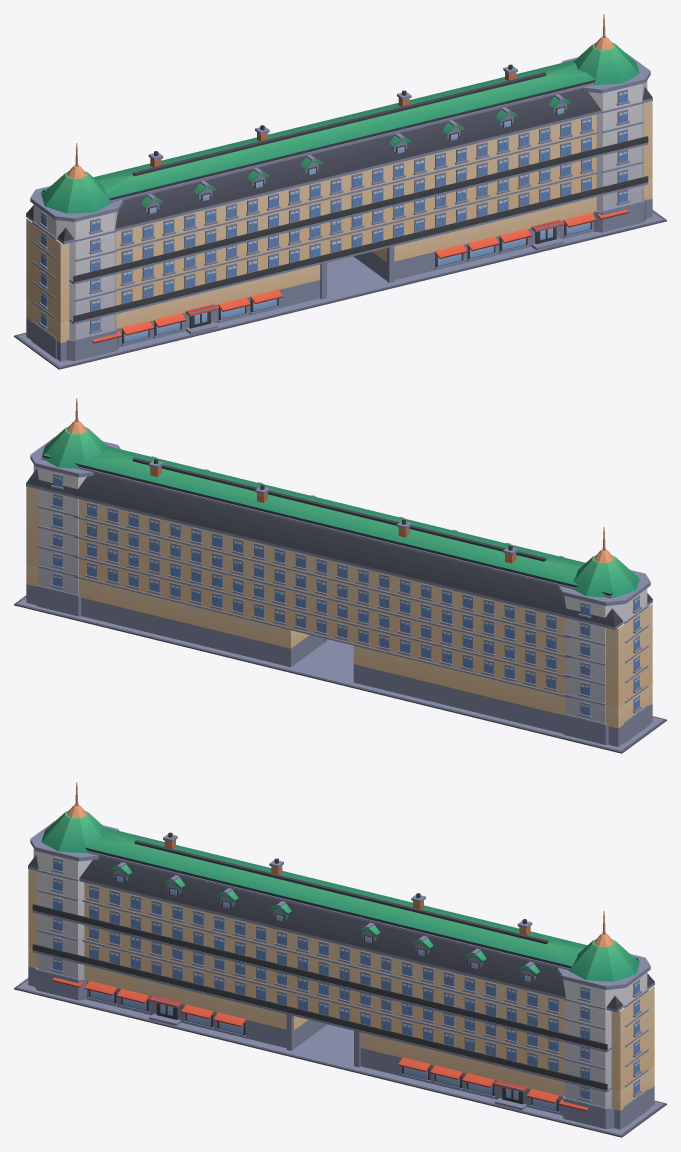
Rendered from res_boulevard_mansard_7x1.glb.
3 views of the same model, one above another, from view 1: azimuth 30°, elevation 25°; view 2: azimuth 150°, elevation 25°; view 3: azimuth 330°, elevation 25° (orthographic).
Parts seen in each view (by area): view 1: res_boulevard_mansard_7x1; view 2: res_boulevard_mansard_7x1; view 3: res_boulevard_mansard_7x1.
Part boxes in pixels (bbox=[...]): res_boulevard_mansard_7x1: bbox=[14, 14, 666, 369]; res_boulevard_mansard_7x1: bbox=[14, 398, 666, 753]; res_boulevard_mansard_7x1: bbox=[14, 782, 666, 1137].
Bounding box in the file's own units: 13.72 × 4.32 × 1.76.
1 material, 1 textured.
